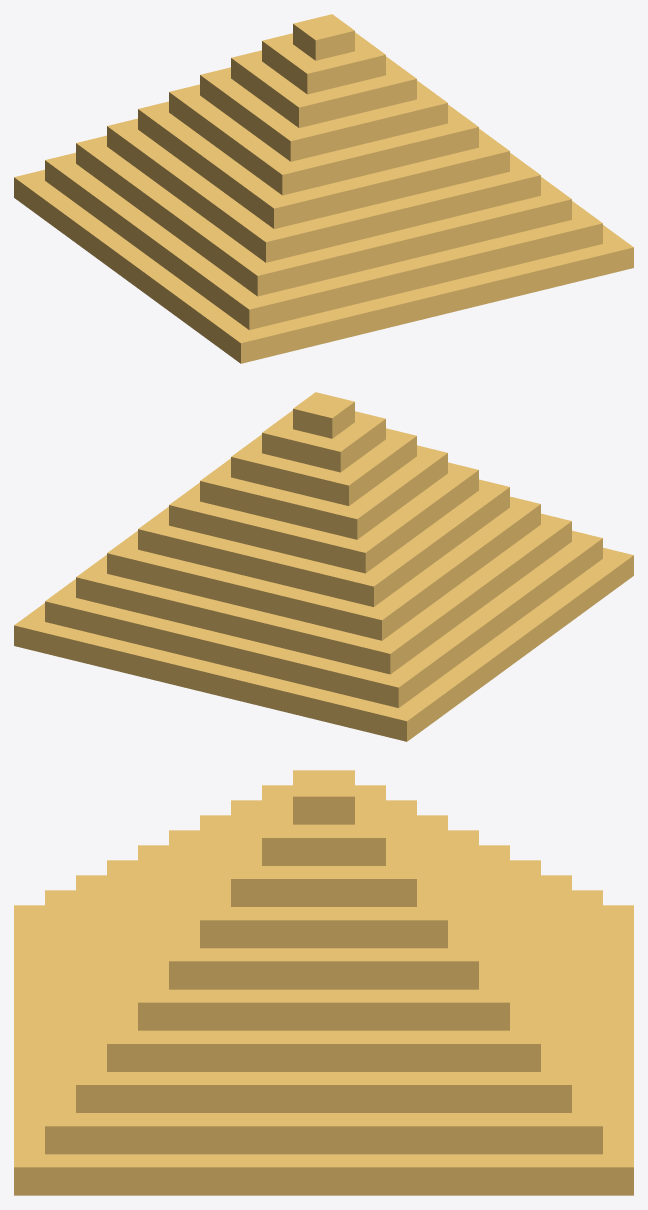
File: pyramid연한색.fbx
The picture shows the model from 3 angles, top to bottom: view 1: azimuth 30°, elevation 25°; view 2: azimuth 150°, elevation 25°; view 3: azimuth 270°, elevation 25°; orthographic projection. The views are drawn at different scales.
Visible parts, largest first — view 1: Cube; view 2: Cube; view 3: Cube.
Part boxes in pixels (bbox=[...]): Cube: bbox=[14, 14, 633, 363]; Cube: bbox=[14, 392, 633, 741]; Cube: bbox=[14, 770, 633, 1195].
Bounding box in the file's own units: 2000 × 1000 × 2000.
